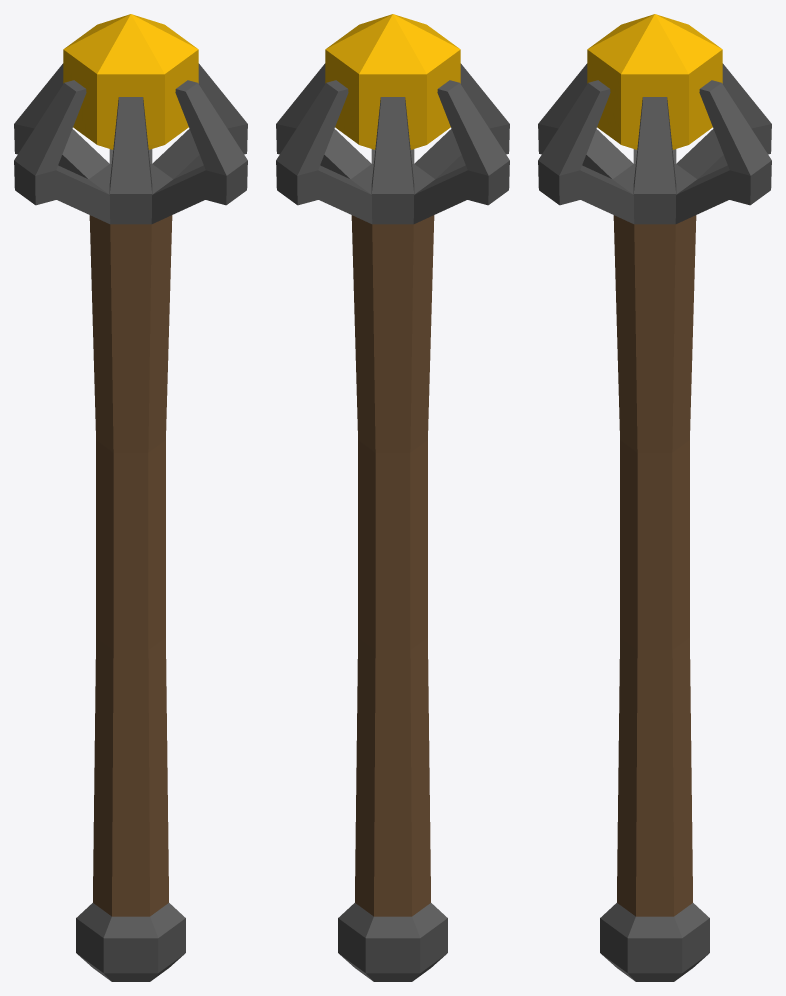
File: drmgrl_staff.fbx
3 views of the same model, side by side, from view 1: azimuth 30°, elevation 25°; view 2: azimuth 150°, elevation 25°; view 3: azimuth 270°, elevation 25° (orthographic).
Parts seen in each view (by area): view 1: Cylinder, Sphere; view 2: Cylinder, Sphere; view 3: Cylinder, Sphere.
Boxes of the visible parts, x1=… form: Cylinder: x1=14, y1=63, x2=247, y2=981; Sphere: x1=63, y1=14, x2=198, y2=149; Cylinder: x1=276, y1=63, x2=509, y2=981; Sphere: x1=325, y1=14, x2=460, y2=149; Cylinder: x1=538, y1=63, x2=771, y2=981; Sphere: x1=587, y1=14, x2=722, y2=149.
Bounding box in the file's own units: 76.14 × 326 × 72.51.
